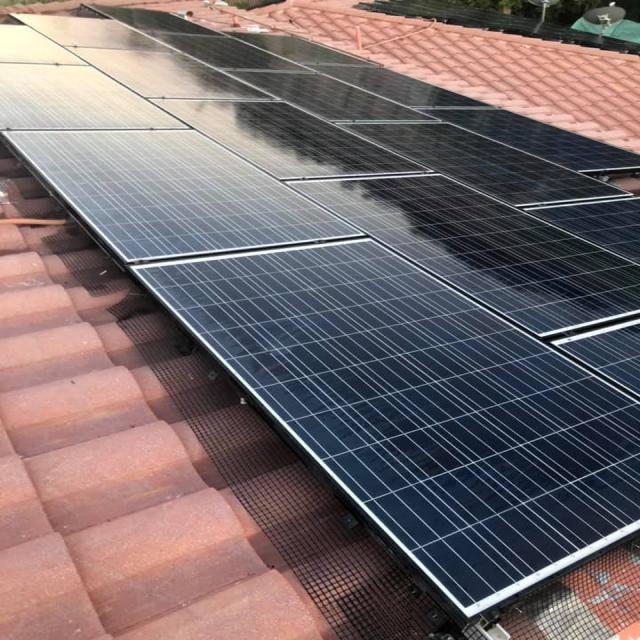clean-solar-panel: (2, 6, 638, 618)
